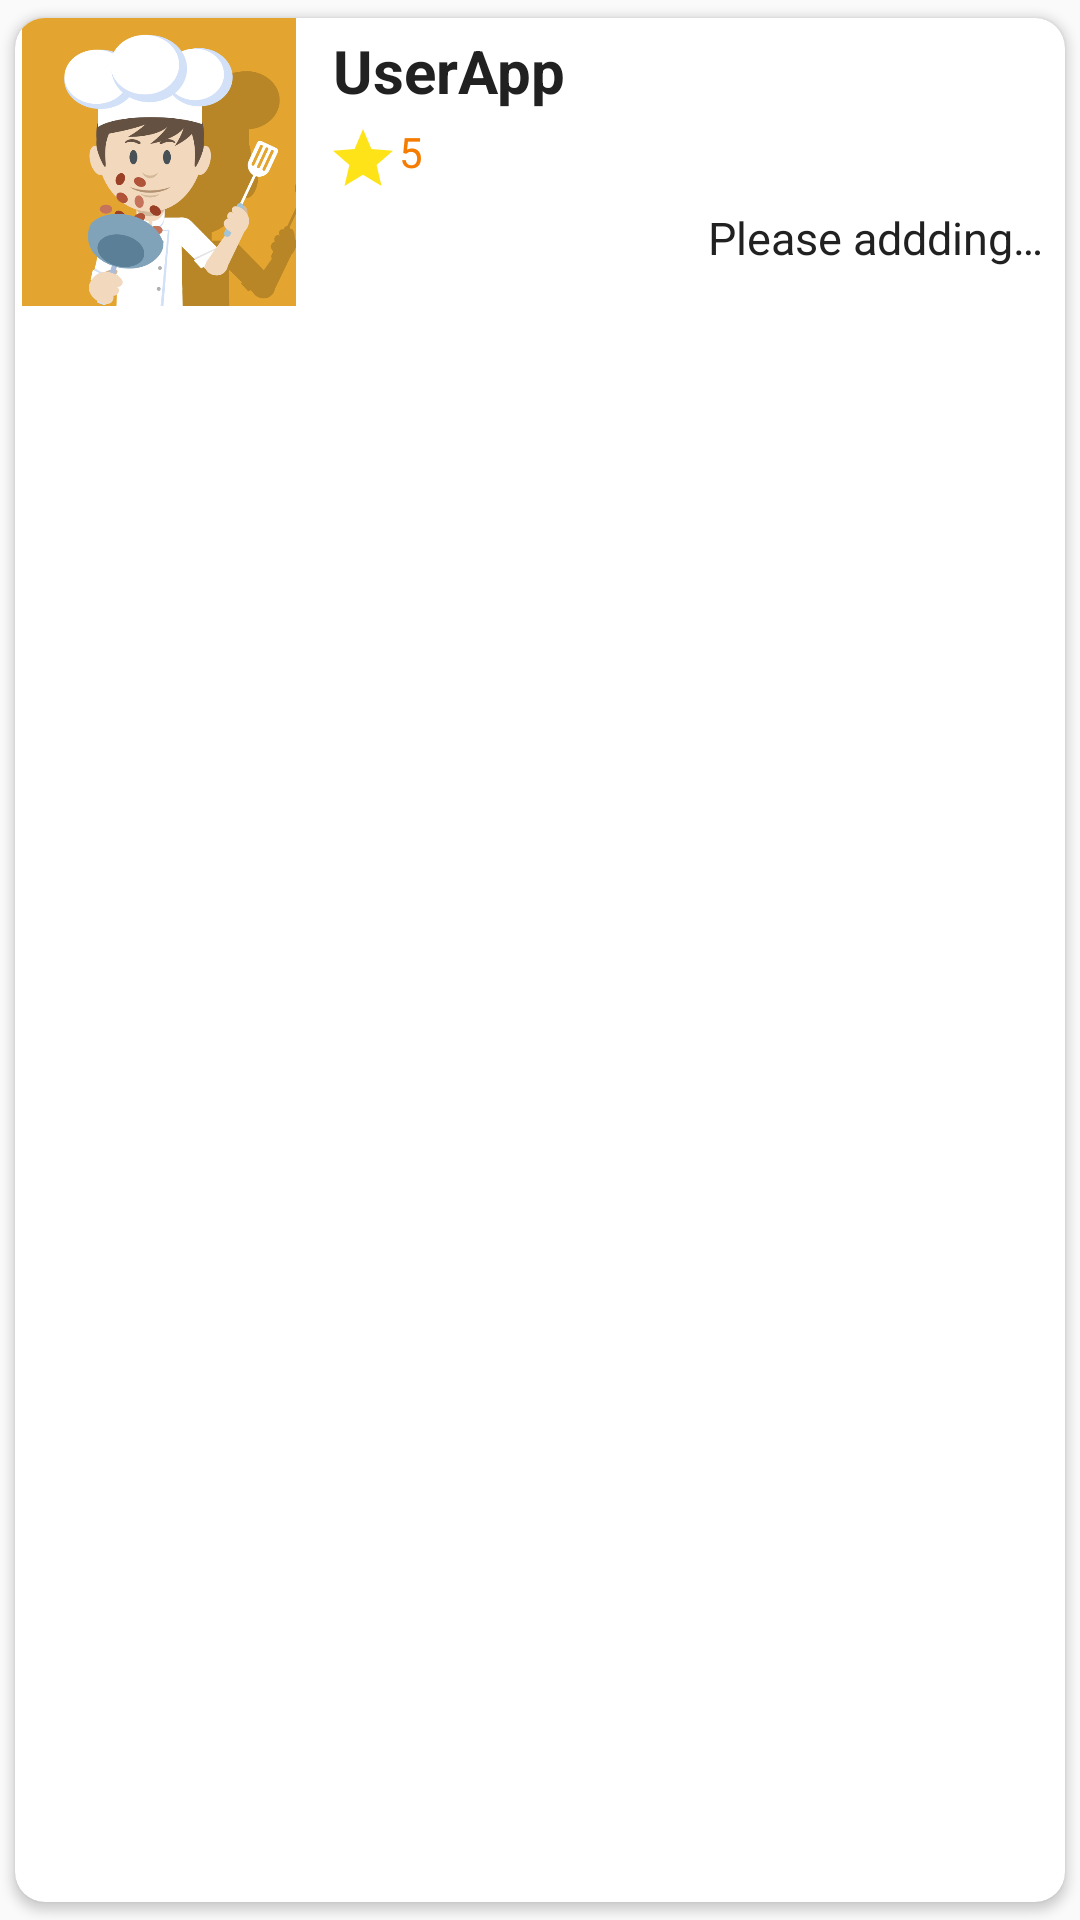

Where icons sit on this 1080w x 1920h app screen, as (x1, y1, x2, y2):
star select: (333, 129, 393, 186)
